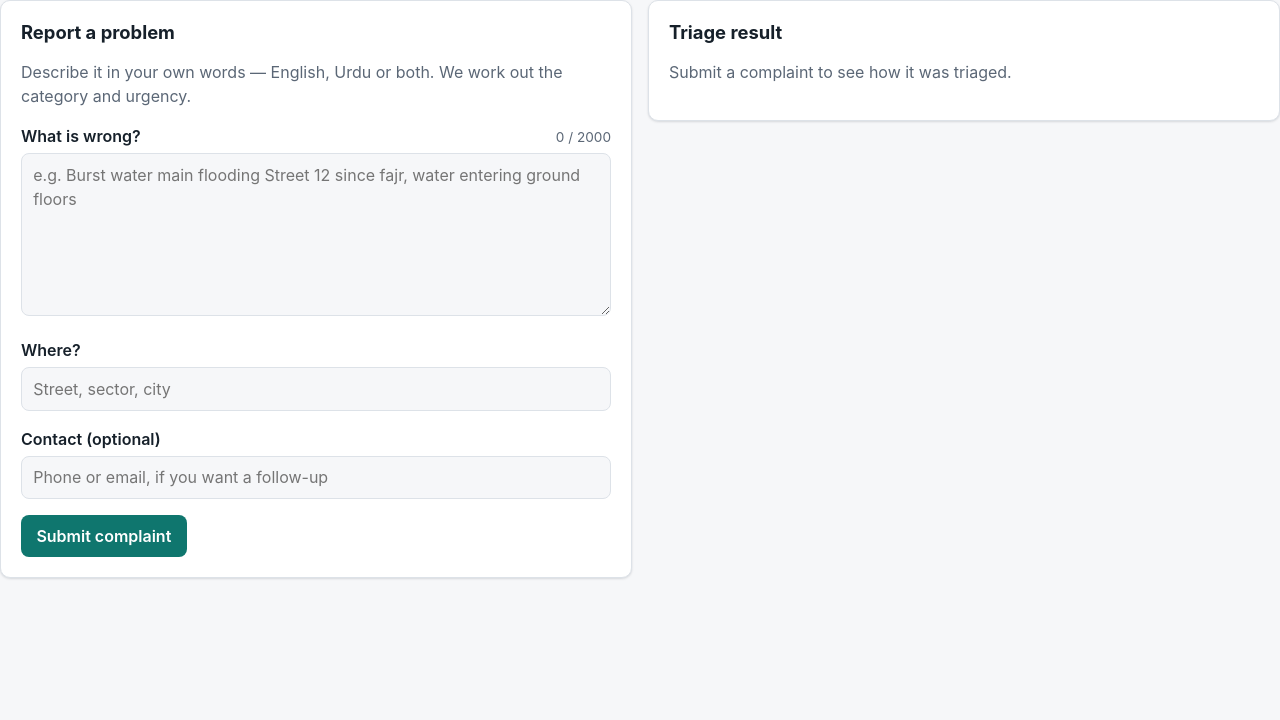
SubmitPage › explains a 429 using the server's message
The width and height of the screenshot is (1280, 720).
Type "Water pipe leaking near masjid" into the text box labelled "What is wrong?".
click(316, 235); type("Water pipe leaking near masjid")  # box [21,153,611,316]
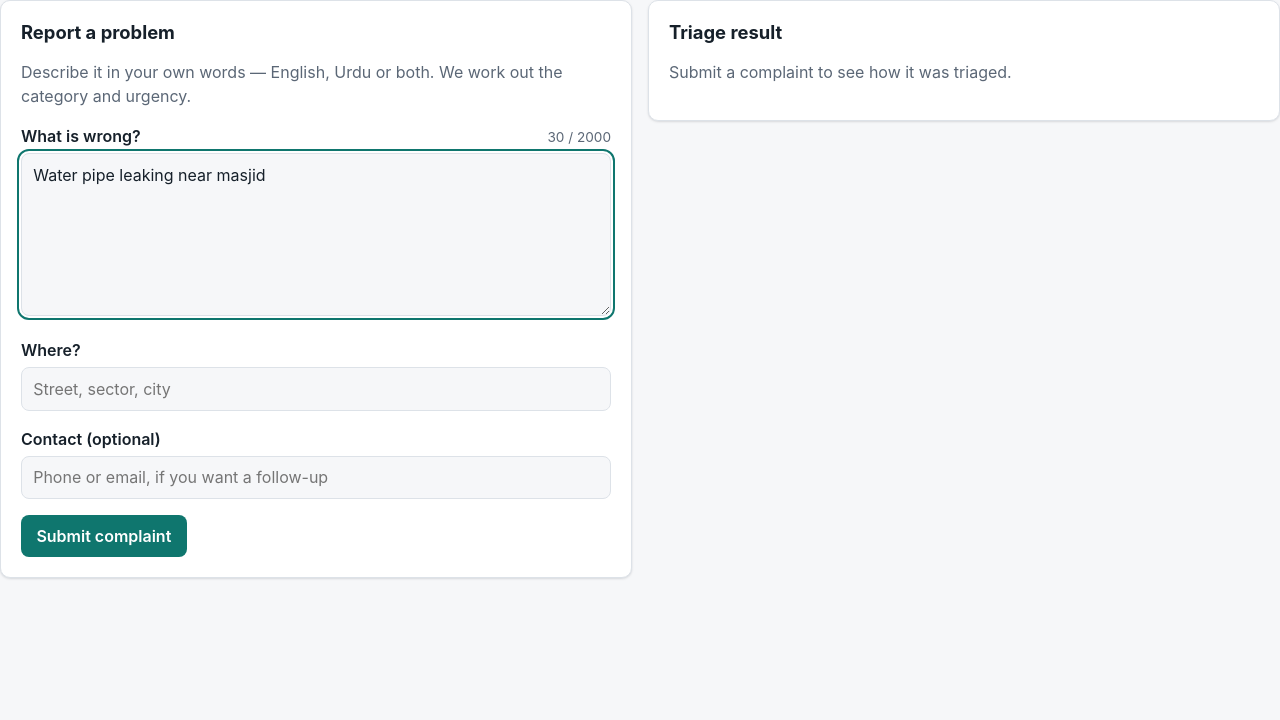
Type "Satellite Town" into the field labelled "Where?".
click(316, 389); type("Satellite Town")  # box [21,367,611,411]
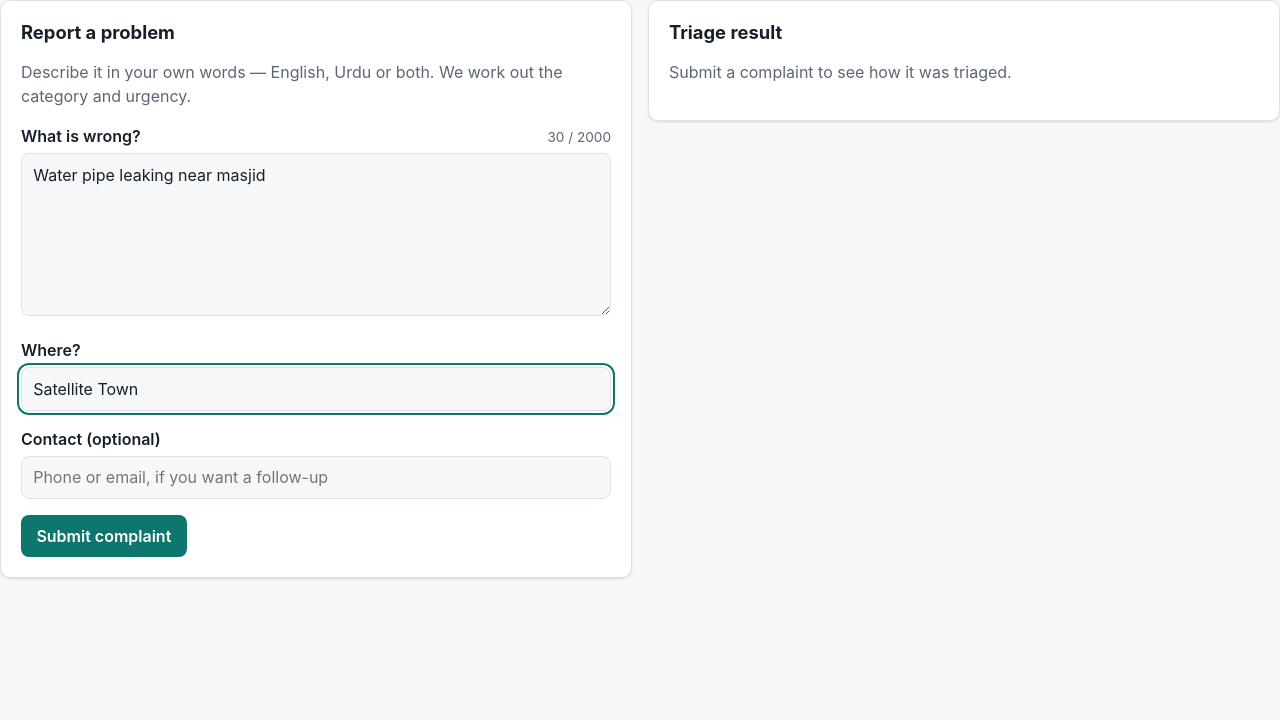
Click the button "Submit complaint".
click(104, 536)  # box [21,515,187,557]
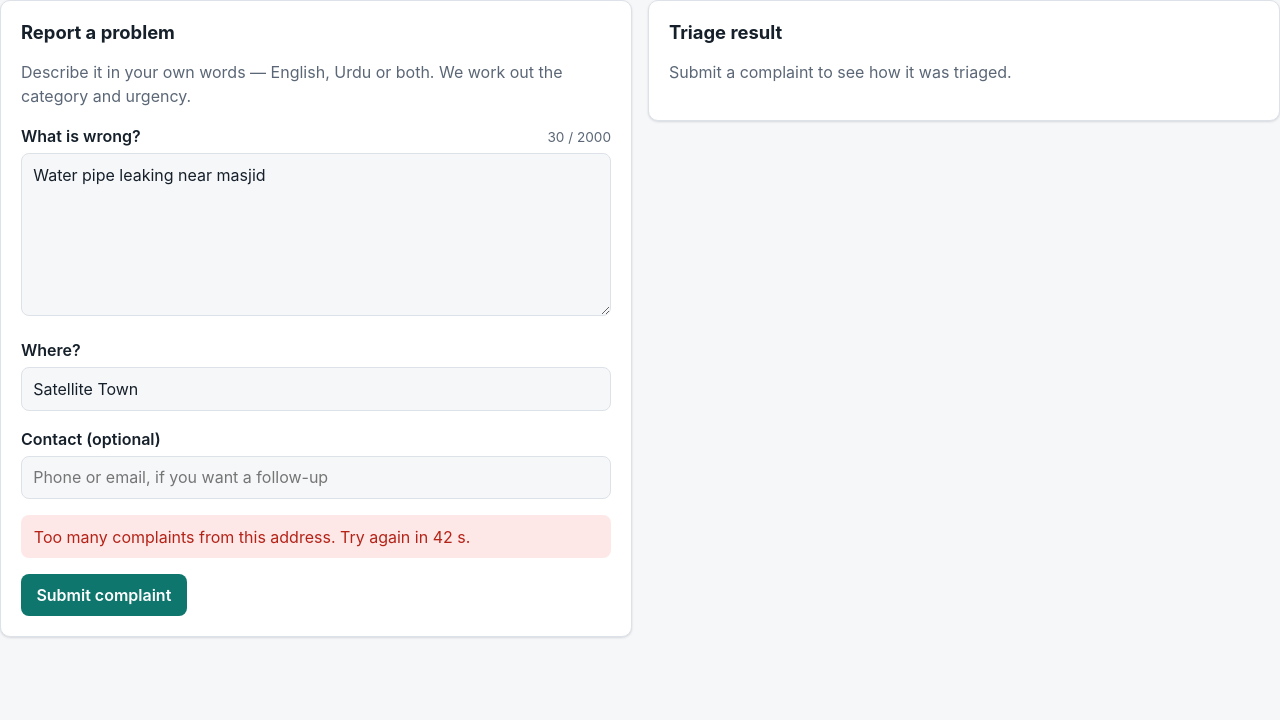
Now the message shows "Try again in 42 s.", box [34,527,470,547]
